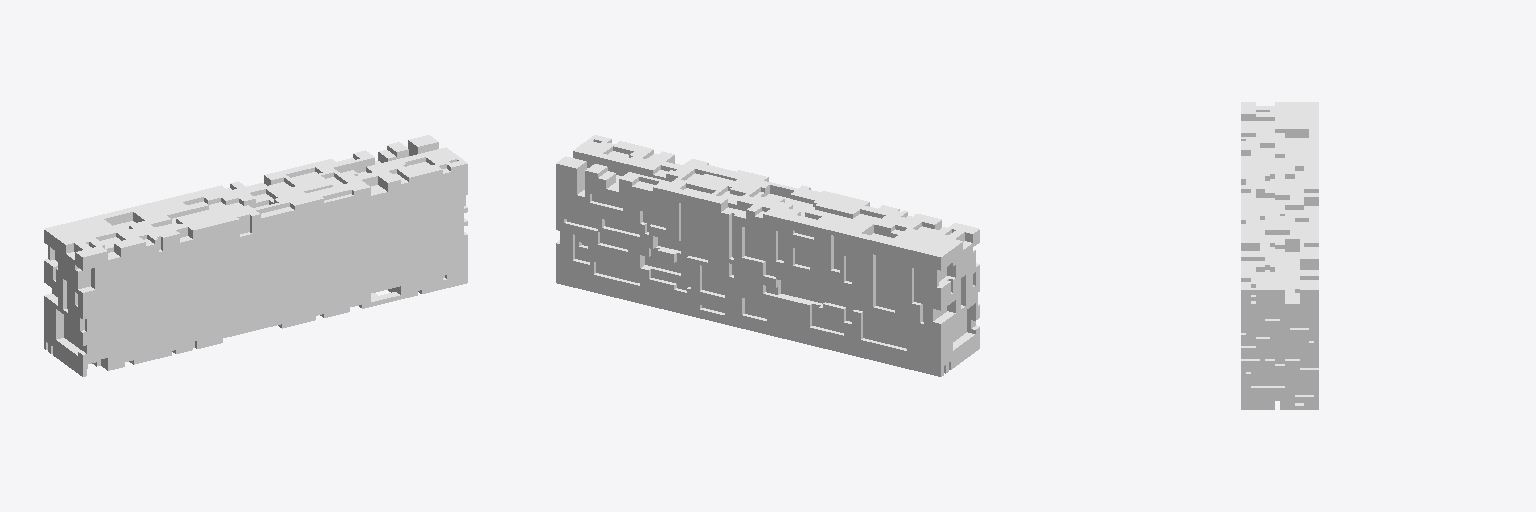
Rendered from rectangulo-0.obj.
The picture shows the model from 3 angles: view 1: azimuth 30°, elevation 25°; view 2: azimuth 150°, elevation 25°; view 3: azimuth 270°, elevation 25°; orthographic projection.
Parts seen in each view (by area): view 1: object 1; view 2: object 1; view 3: object 1.
Boxes of the visible parts, x1,y1,x2,y2 form: object 1: [44, 135, 467, 376]; object 1: [556, 135, 979, 376]; object 1: [1241, 102, 1318, 409].
Size of the model in its own units: 9.1 by 2.7 by 1.6.